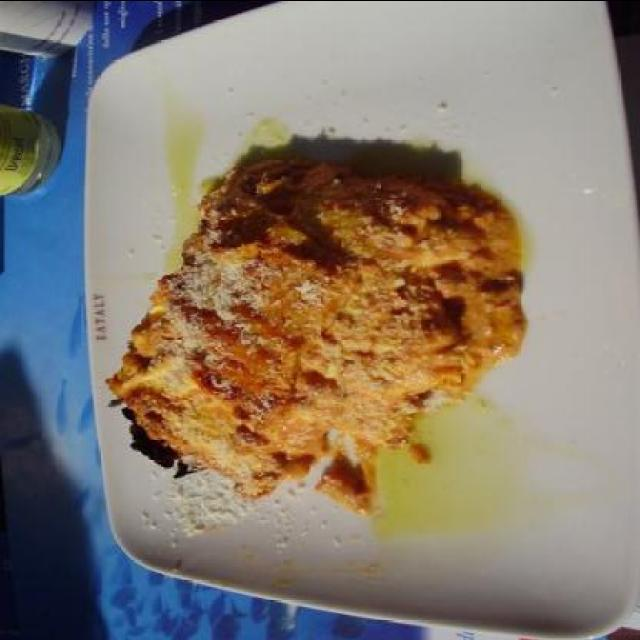Lasagna: (112, 130, 520, 487)
